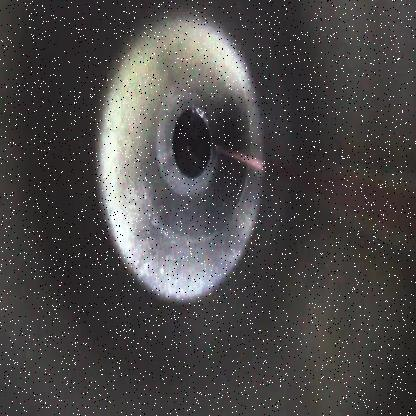NoCrack: (96, 12, 264, 306)
